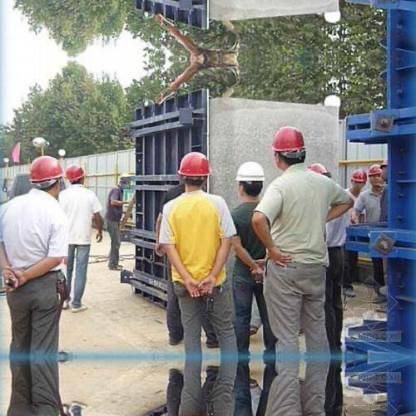helmet: (268, 120, 310, 173), (174, 147, 215, 196), (26, 152, 67, 196), (237, 156, 266, 199), (62, 161, 86, 187), (367, 163, 383, 189), (351, 167, 368, 191)
